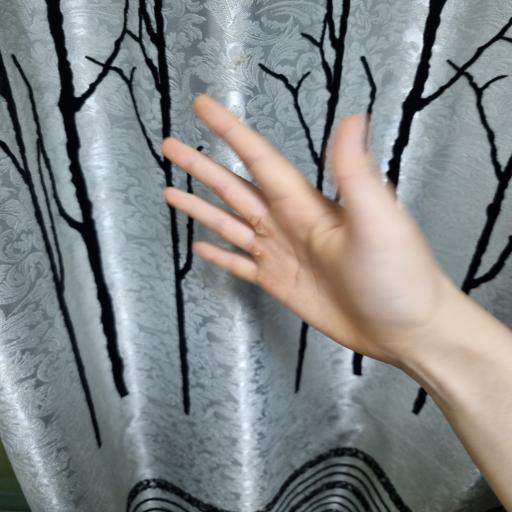Paper: (161, 94, 450, 358)
